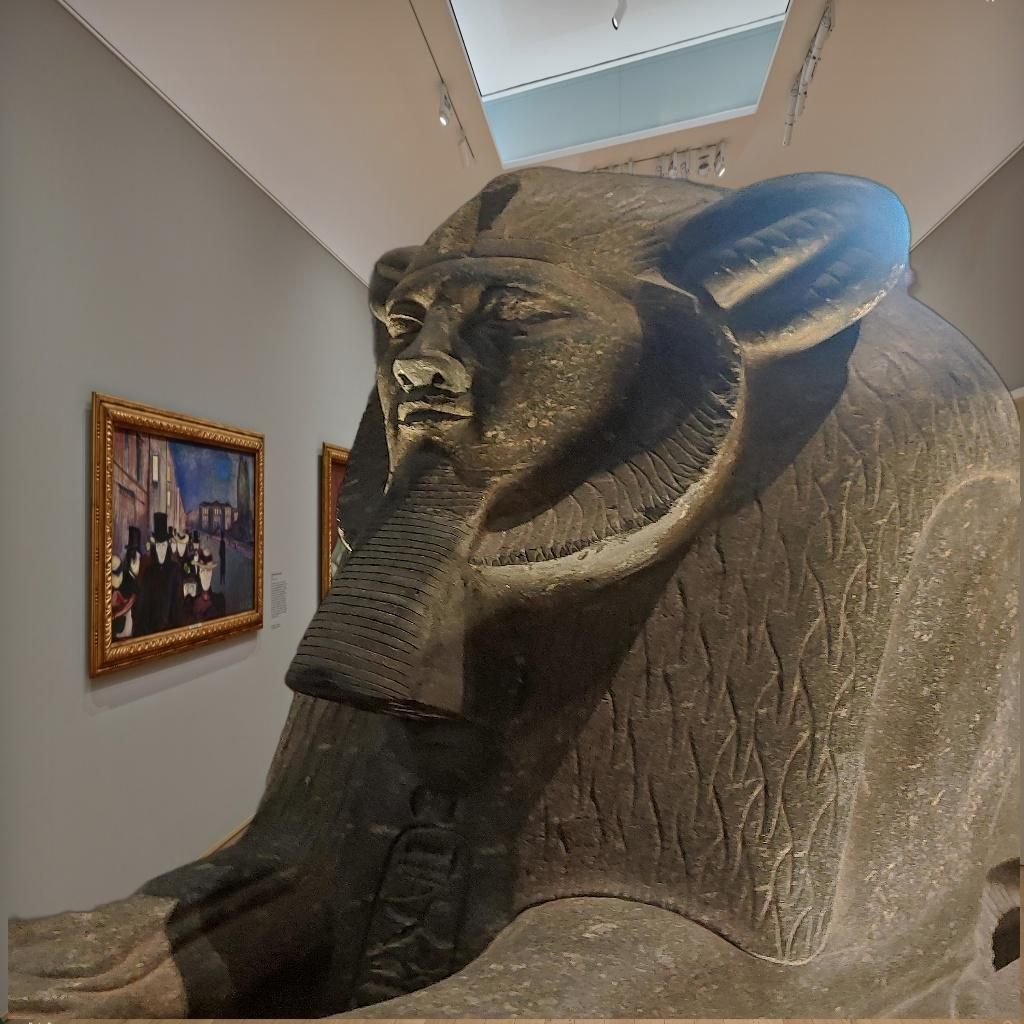Sphinx of Amenmhat III: (8, 161, 1020, 1019)
